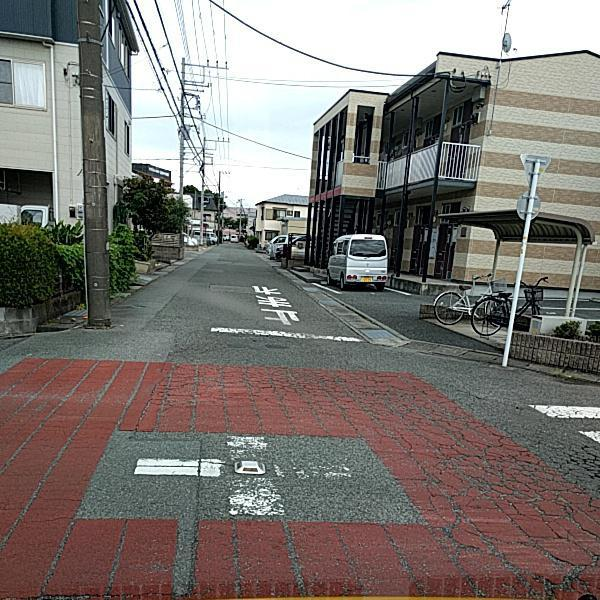D44: (201, 323, 362, 349)
